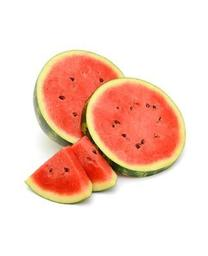watermelon: (20, 47, 186, 204)
